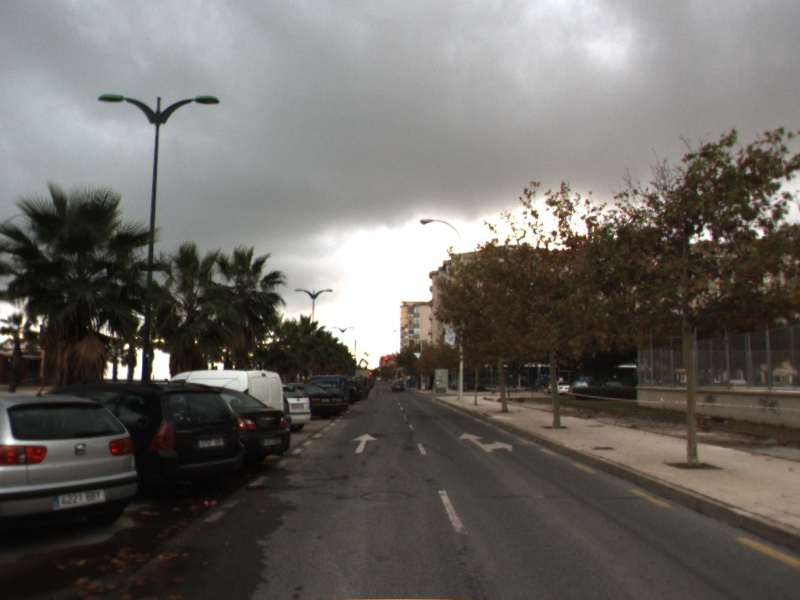STRAIGHT: (350, 432, 380, 454)
STRAIGHT_RIGHT: (457, 431, 514, 454)
